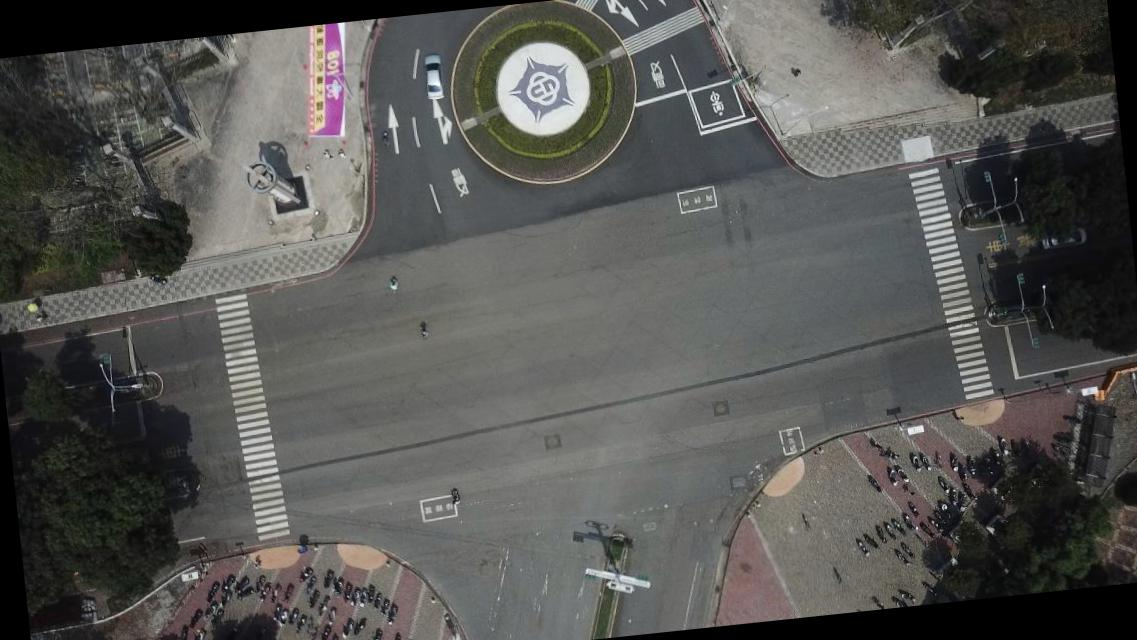vehicle: (1039, 224, 1087, 248), (422, 52, 445, 99)
